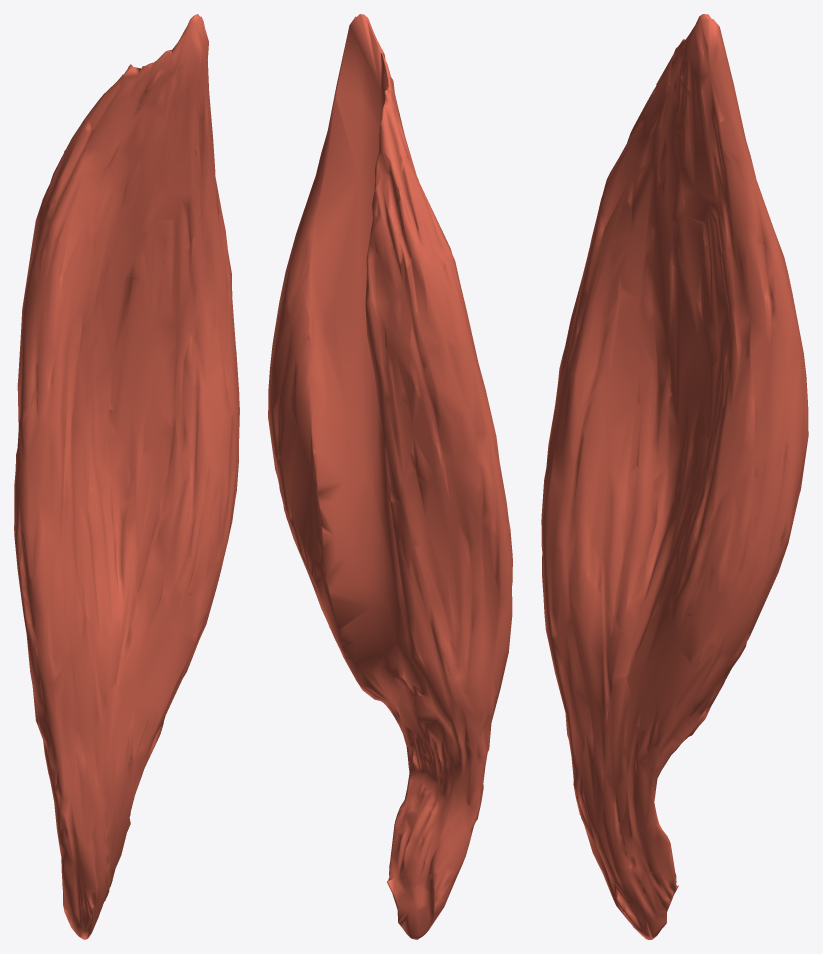
The model's file is brachialis.glb.
3 views of the same model, side by side, from view 1: azimuth 30°, elevation 25°; view 2: azimuth 150°, elevation 25°; view 3: azimuth 330°, elevation 25° (orthographic). The views are drawn at different scales.
Visible parts, largest first — view 1: Brachialis muscle.r; view 2: Brachialis muscle.r; view 3: Brachialis muscle.r.
Part boxes in pixels (x1,y1,x2,y2): Brachialis muscle.r: (14,14,239,939); Brachialis muscle.r: (268,14,512,939); Brachialis muscle.r: (541,14,808,939).
Size of the model in its own units: 0.061 by 0.2323 by 0.0276.
